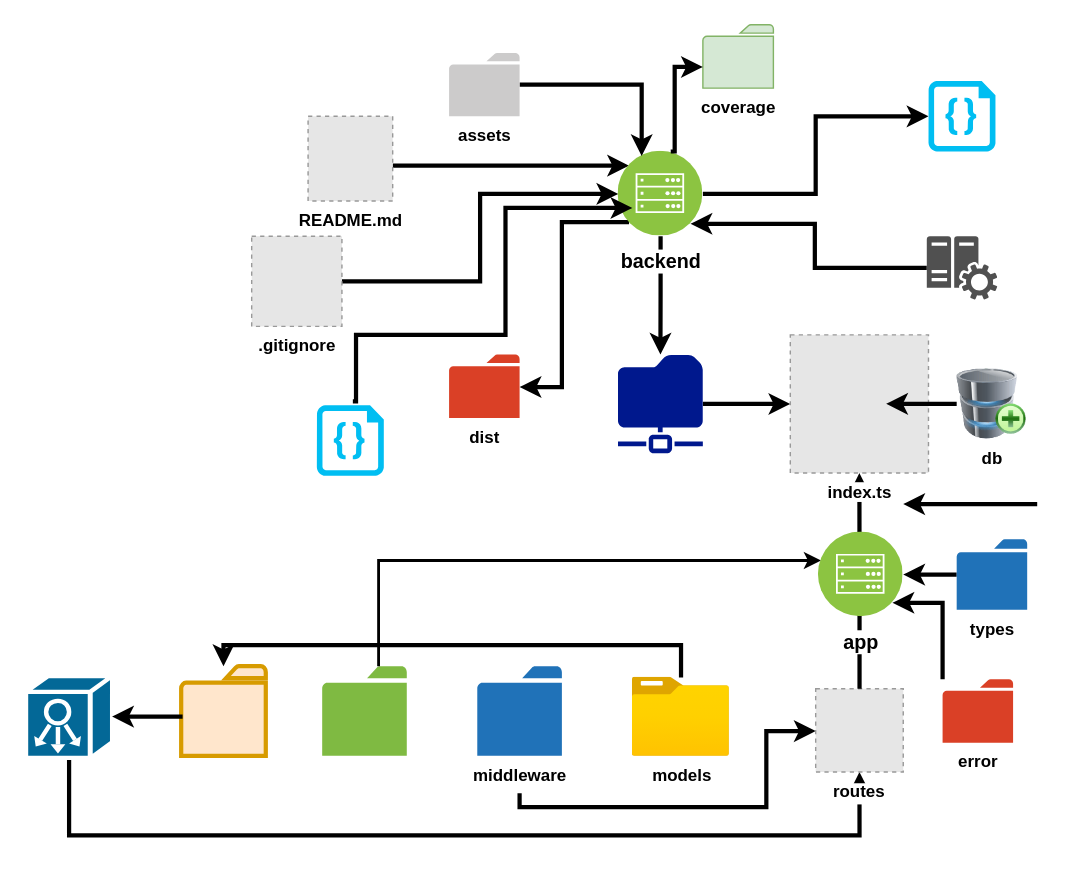
Image size: 1076x873. Some labels were removed from this diagram. Grey dashed boxes stand in for pictures. Each missing label, with the centre of its shape:
__tests__: the point at 363,710
controller: the point at 68,716
EventsManager.postman_collection.json: the point at 349,440
package.json: the point at 961,115
service: the point at 222,710
src: the point at 659,403
tsconfig.json: the point at 961,267
